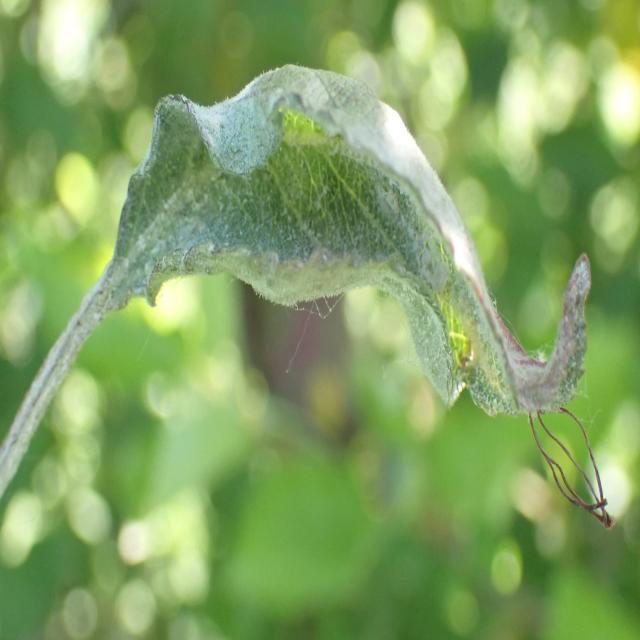Powdery_mildew: (104, 42, 603, 441)
